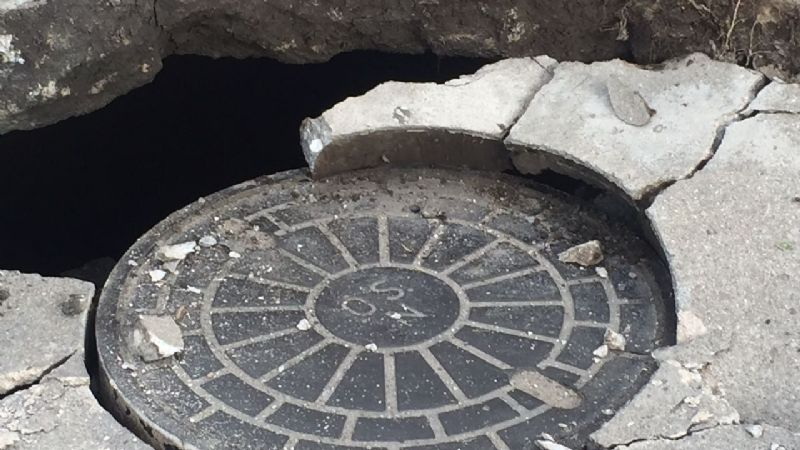circle: (13, 18, 791, 445)
